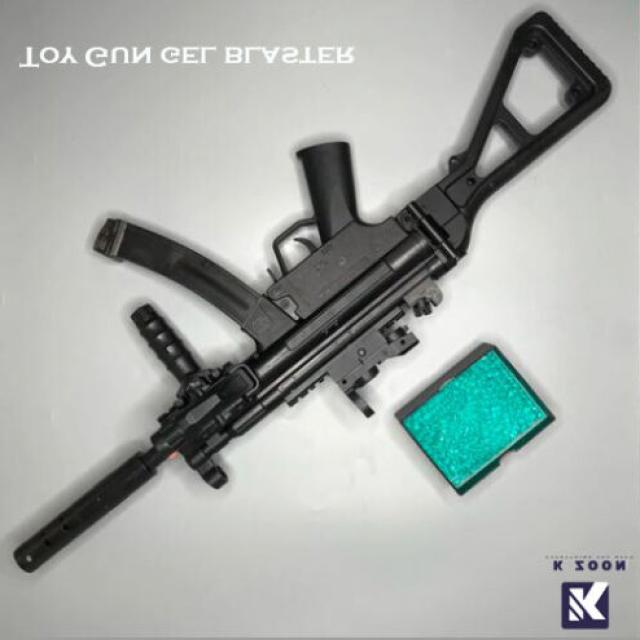Gun: (64, 12, 622, 540)
